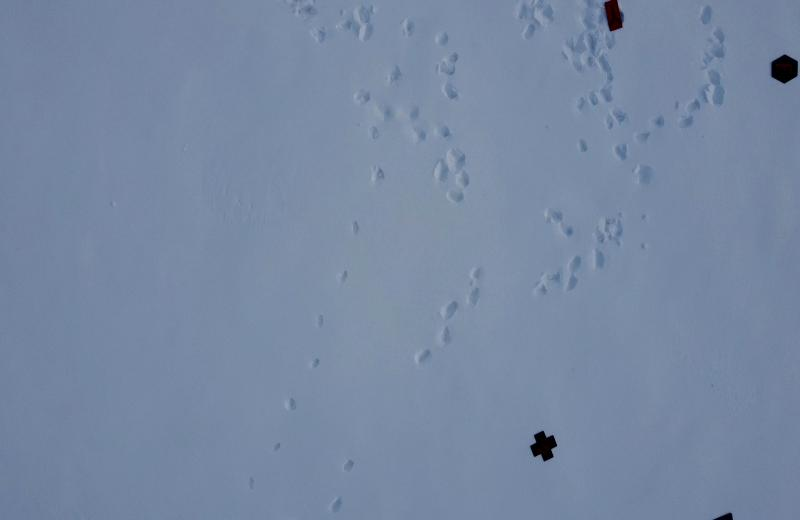Cross: (529, 427, 558, 463)
Hexagon: (765, 51, 800, 86)
Rectangle: (601, 0, 626, 37)
